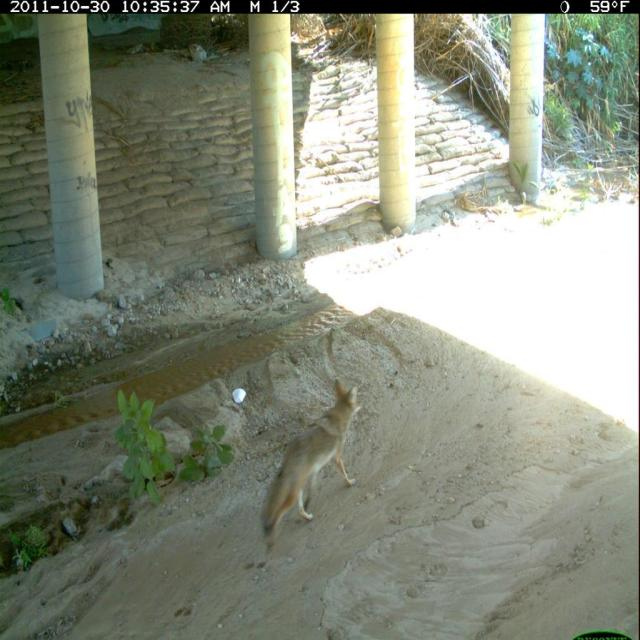coyote: (257, 374, 367, 556)
